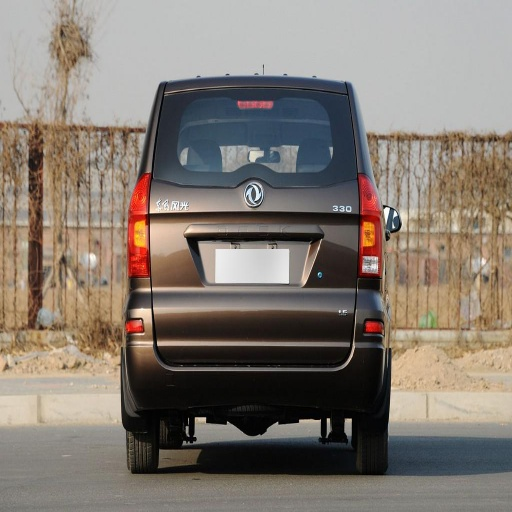back_bumper: (125, 293, 383, 418)
back_right_light: (358, 175, 397, 288)
tailgate: (150, 166, 354, 294)
trunk: (143, 184, 360, 361)
